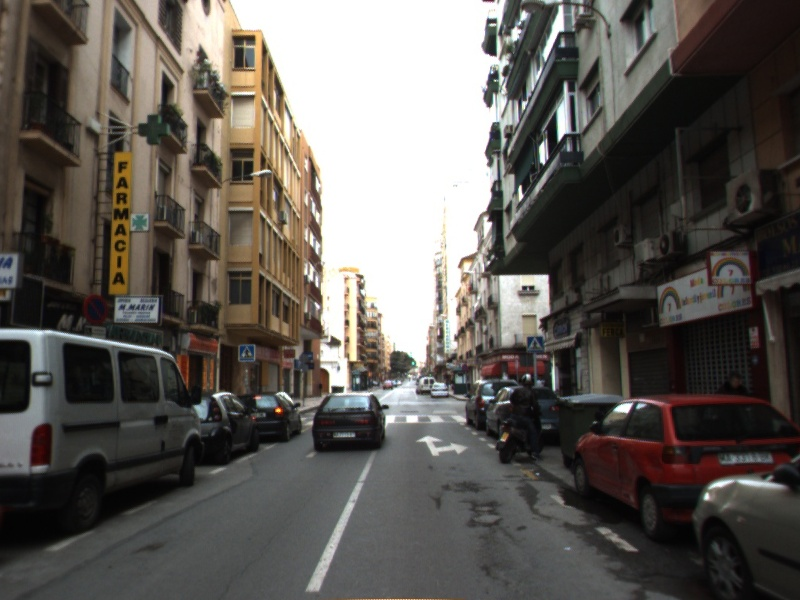STRAIGHT_RIGHT: (414, 434, 470, 458)
